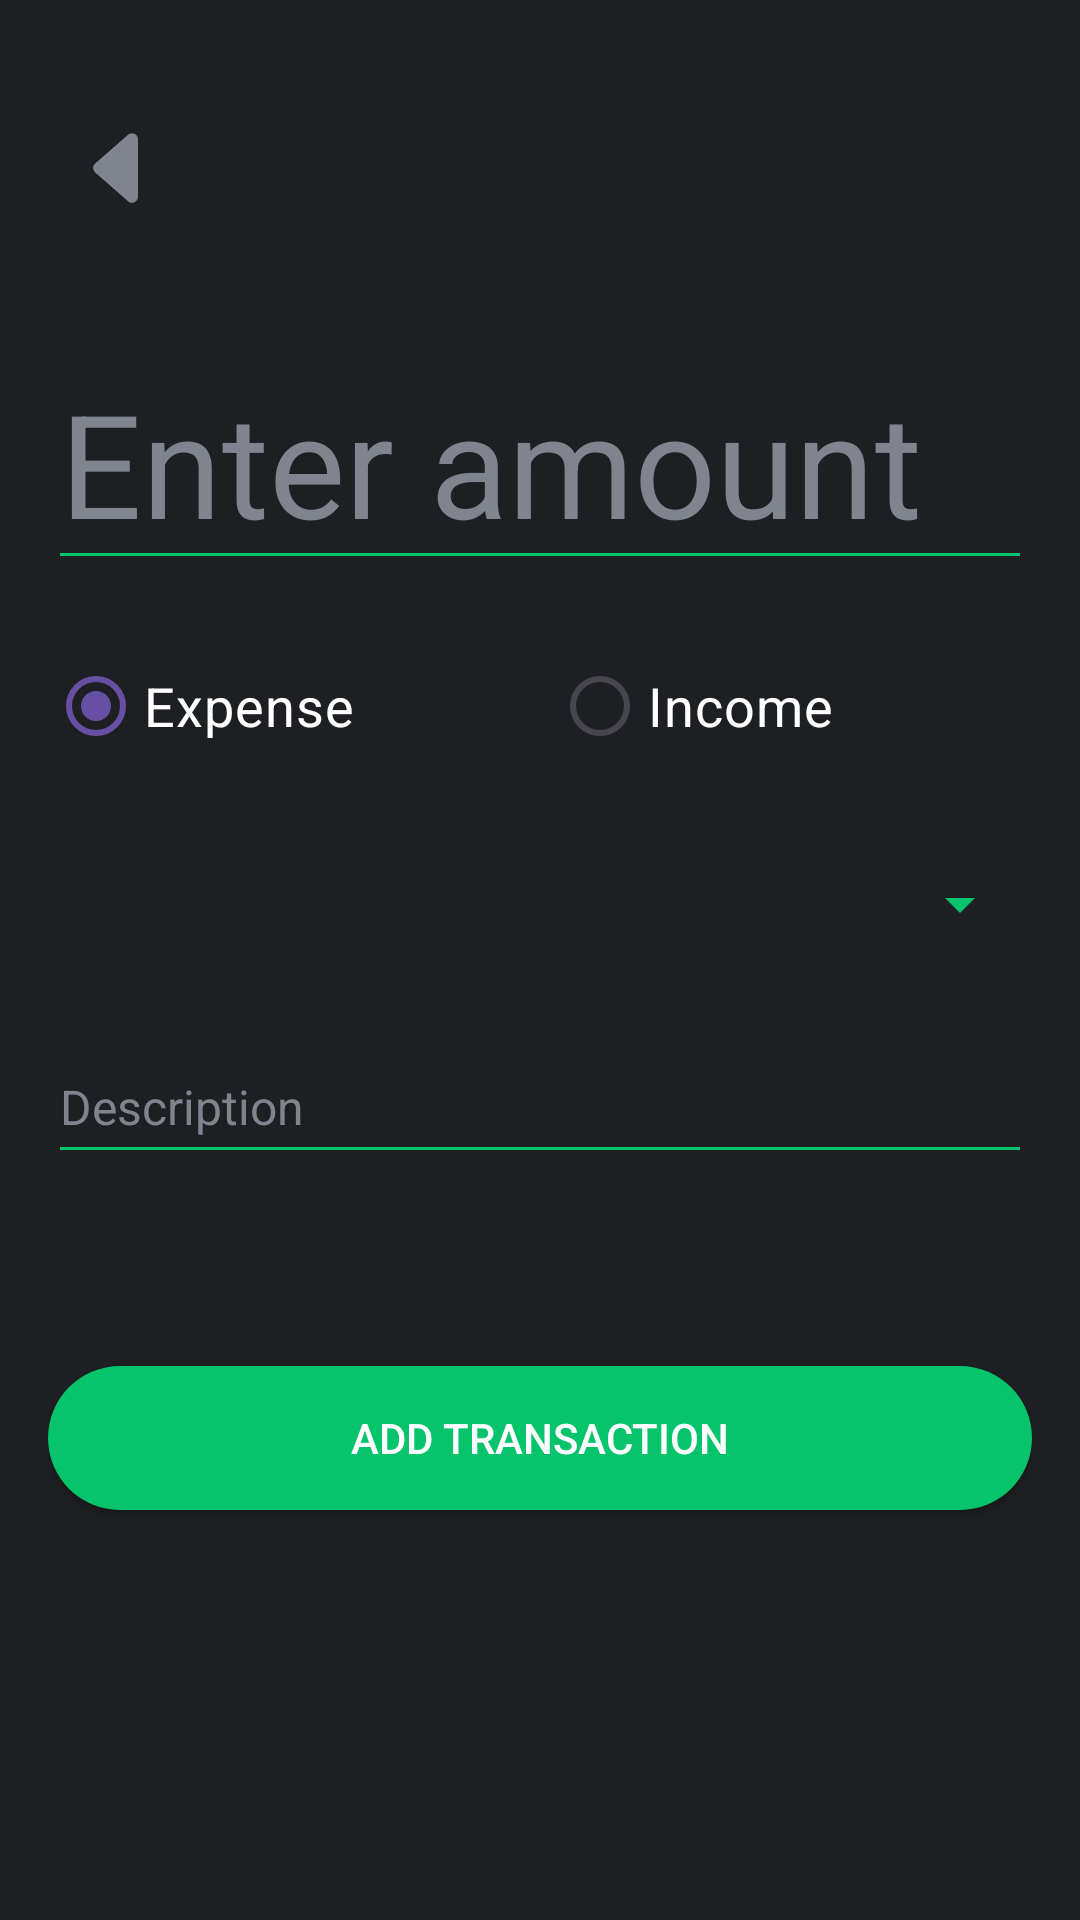

Icons on this 1080w x 1920h Android screen, each with the point to tap as point (x, y):
back: point (115, 168)
